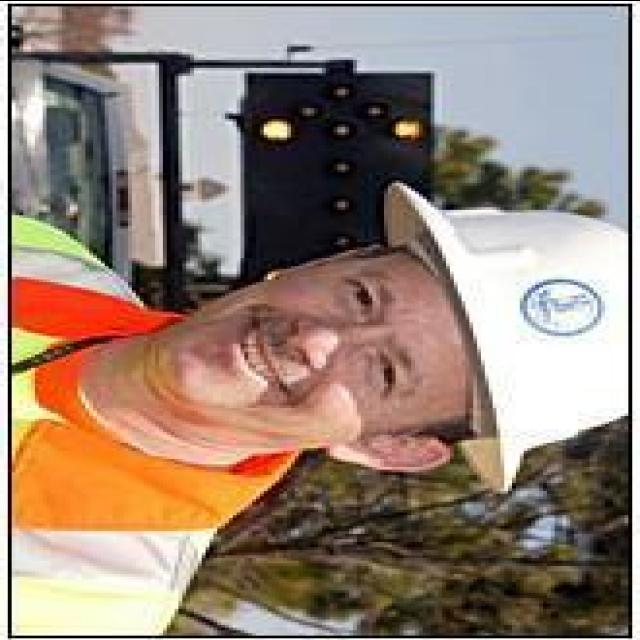helmet: (384, 168, 638, 497)
jacket: (8, 192, 308, 632)
